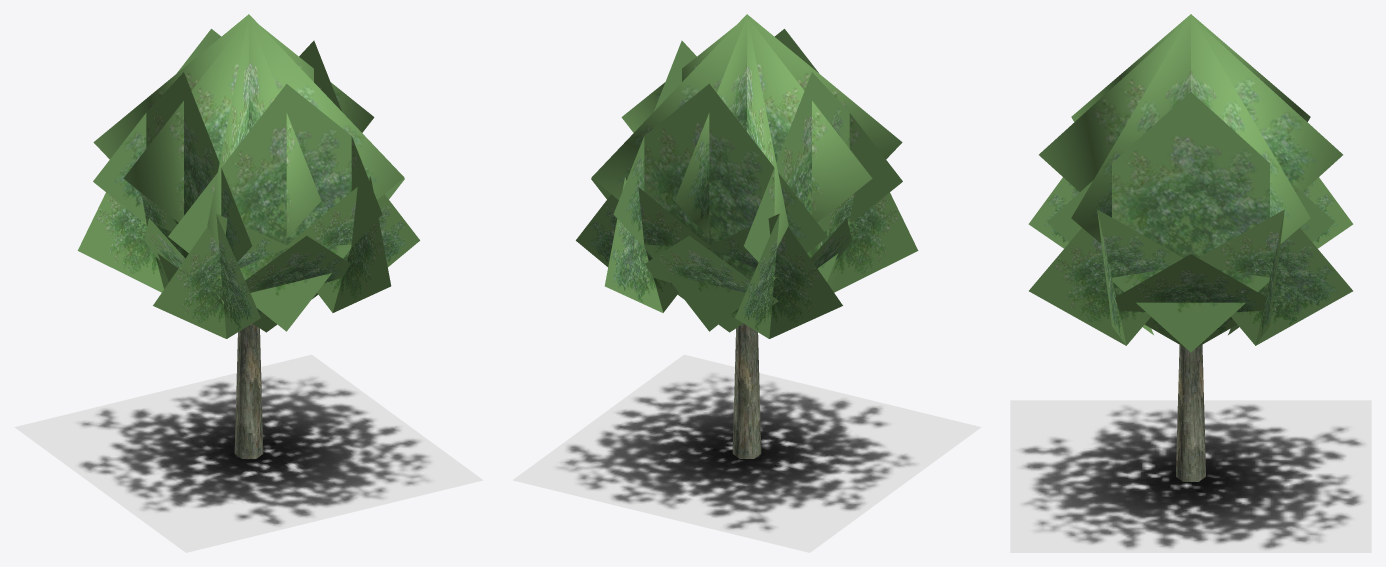
The model's file is F2_Walk_Tree.dae.
The picture shows the model from 3 angles, left to right: view 1: azimuth 30°, elevation 25°; view 2: azimuth 150°, elevation 25°; view 3: azimuth 270°, elevation 25°; orthographic projection. The views are drawn at different scales.
Parts seen in each view (by area): view 1: polySurface1105_0_0_node, Tree_Shadow_2_0_node, Tree_Miki_1_0_node; view 2: polySurface1105_0_0_node, Tree_Shadow_2_0_node, Tree_Miki_1_0_node; view 3: polySurface1105_0_0_node, Tree_Shadow_2_0_node, Tree_Miki_1_0_node.
Part boxes in pixels (left/top/right/bottom): polySurface1105_0_0_node: left=77, top=14, right=419, bottom=338; Tree_Shadow_2_0_node: left=14, top=354, right=483, bottom=552; Tree_Miki_1_0_node: left=234, top=323, right=263, bottom=458; polySurface1105_0_0_node: left=576, top=14, right=918, bottom=338; Tree_Shadow_2_0_node: left=512, top=354, right=981, bottom=552; Tree_Miki_1_0_node: left=732, top=323, right=761, bottom=458; polySurface1105_0_0_node: left=1028, top=14, right=1353, bottom=352; Tree_Shadow_2_0_node: left=1010, top=400, right=1371, bottom=552; Tree_Miki_1_0_node: left=1176, top=290, right=1244, bottom=481.
Size of the model in its own units: 32 by 45.18 by 32.
Materials: 3 (3 with a texture image).
